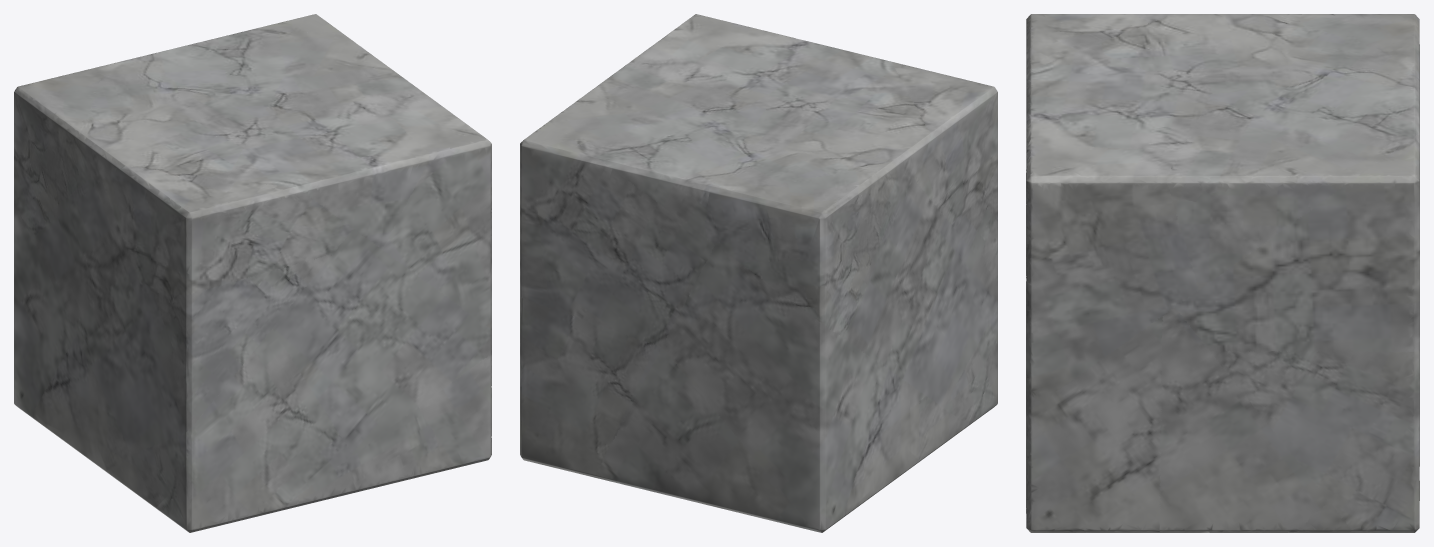
The model's file is 大理石地砖.glb.
3 renders of one model, left to right at view 1: azimuth 30°, elevation 25°; view 2: azimuth 150°, elevation 25°; view 3: azimuth 270°, elevation 25°, orthographic. The views are drawn at different scales.
Visible parts, largest first — view 1: tripo_node_99d33e38-8188-4a86-a1e9-1e649328bd4e; view 2: tripo_node_99d33e38-8188-4a86-a1e9-1e649328bd4e; view 3: tripo_node_99d33e38-8188-4a86-a1e9-1e649328bd4e.
Part boxes in pixels (<box>): tripo_node_99d33e38-8188-4a86-a1e9-1e649328bd4e: <box>14,14,491,532</box>; tripo_node_99d33e38-8188-4a86-a1e9-1e649328bd4e: <box>520,14,997,532</box>; tripo_node_99d33e38-8188-4a86-a1e9-1e649328bd4e: <box>1026,14,1419,532</box>.
Size of the model in its own units: 0.9995 by 1 by 0.9995.
Materials: 1 (1 with a texture image).
